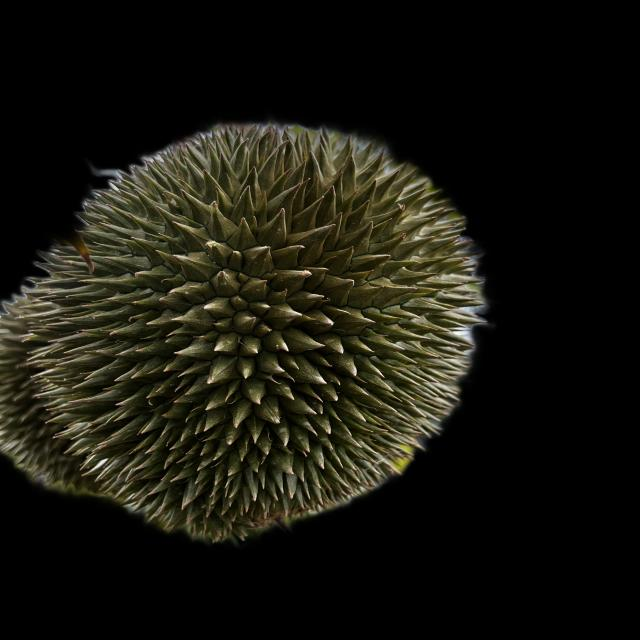immature: (38, 113, 475, 548)
